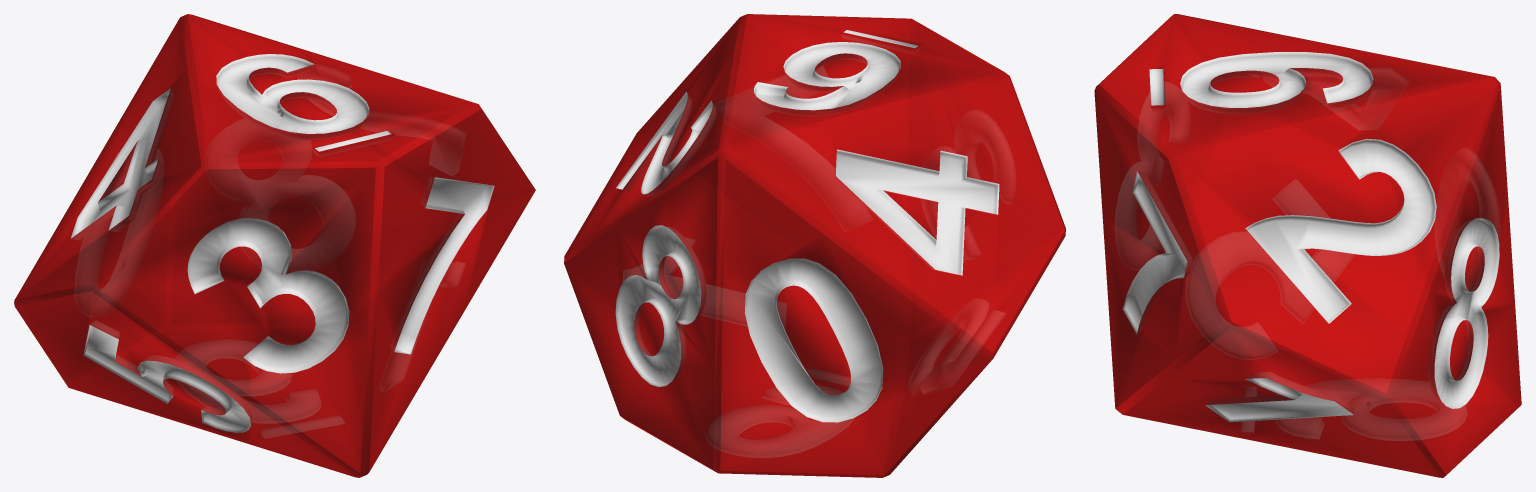
3 views of the same model, side by side, from view 1: azimuth 30°, elevation 25°; view 2: azimuth 150°, elevation 25°; view 3: azimuth 270°, elevation 25° (orthographic). The views are drawn at different scales.
Parts seen in each view (by area): view 1: 10_Sided; view 2: 10_Sided; view 3: 10_Sided.
Part boxes in pixels (x1,y1,x2,y2): 10_Sided: (14,14,535,477); 10_Sided: (564,14,1065,477); 10_Sided: (1094,14,1521,477).
Size of the model in its own units: 11.86 by 8.51 by 9.65.
